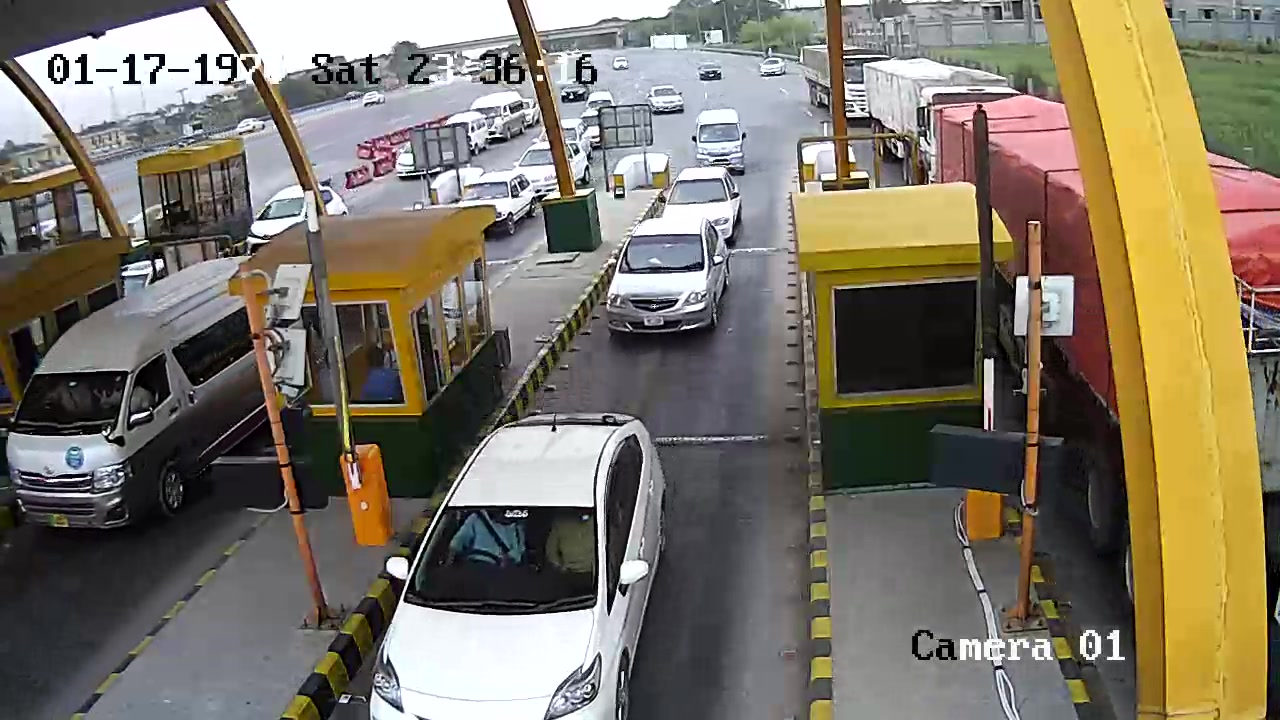F1: (594, 219, 741, 350)
